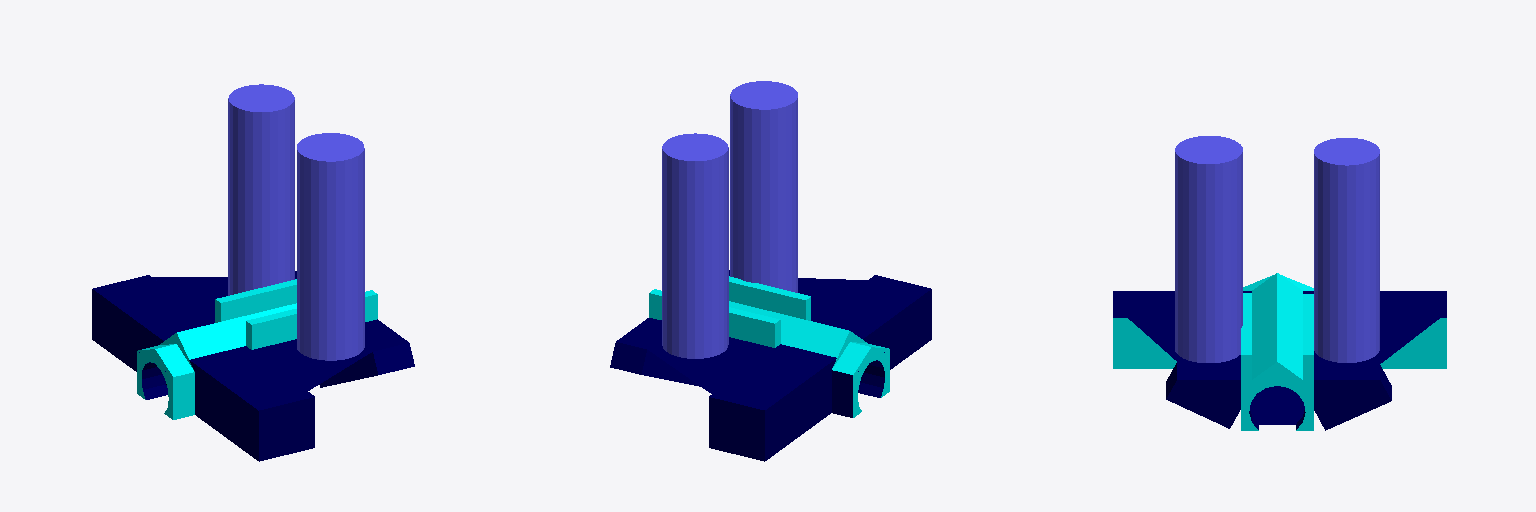
File: Temple.obj
The picture shows the model from 3 angles: view 1: azimuth 30°, elevation 25°; view 2: azimuth 150°, elevation 25°; view 3: azimuth 270°, elevation 25°; orthographic projection.
Parts seen in each view (by area): view 1: Mesh1 Model, Mesh2 Model; view 2: Mesh1 Model, Mesh2 Model; view 3: Mesh1 Model, Mesh2 Model.
Boxes of the visible parts, x1,y1,x2,y2 form: Mesh1 Model: [92, 133, 414, 461]; Mesh2 Model: [228, 84, 294, 295]; Mesh1 Model: [610, 81, 931, 461]; Mesh2 Model: [662, 133, 728, 358]; Mesh1 Model: [1113, 136, 1446, 430]; Mesh2 Model: [1314, 138, 1379, 362].
Bounding box in the file's own units: 2409 × 2818 × 3402.